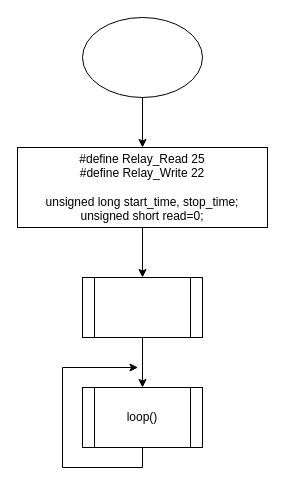
Image size: 285x493. Some labels were removed from this diagram. Here are the shapes that lost their labels. From the top down, the centre of each, then its label:
At (142,57): "Start".
At (142,307): "setup()".
